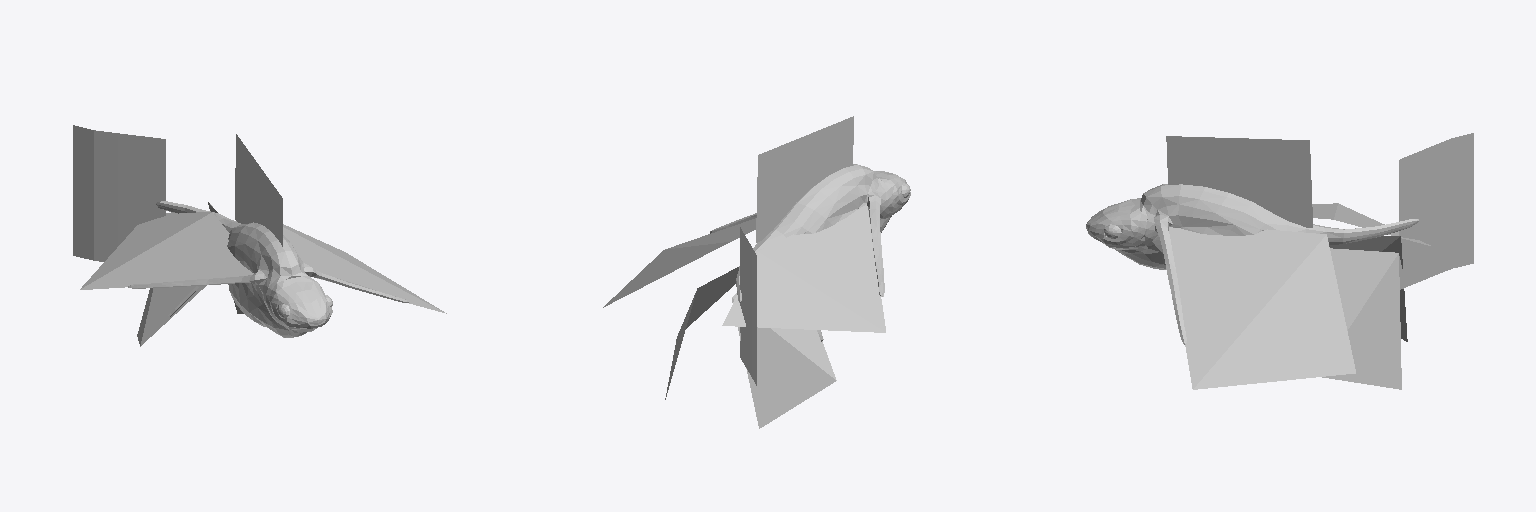
Rendered from fish_000017.obj.
3 renders of one model, left to right at view 1: azimuth 30°, elevation 25°; view 2: azimuth 150°, elevation 25°; view 3: azimuth 270°, elevation 25°, orthographic.
Parts seen in each view (by area): view 1: flyingFish_low_StingrayPBS1_0; view 2: flyingFish_low_StingrayPBS1_0; view 3: flyingFish_low_StingrayPBS1_0.
Part boxes in pixels (left/top/right/bottom): flyingFish_low_StingrayPBS1_0: left=73, top=125, right=446, bottom=346; flyingFish_low_StingrayPBS1_0: left=603, top=116, right=910, bottom=428; flyingFish_low_StingrayPBS1_0: left=1086, top=133, right=1473, bottom=389.
Size of the model in its own units: 16.88 by 12.36 by 19.17.